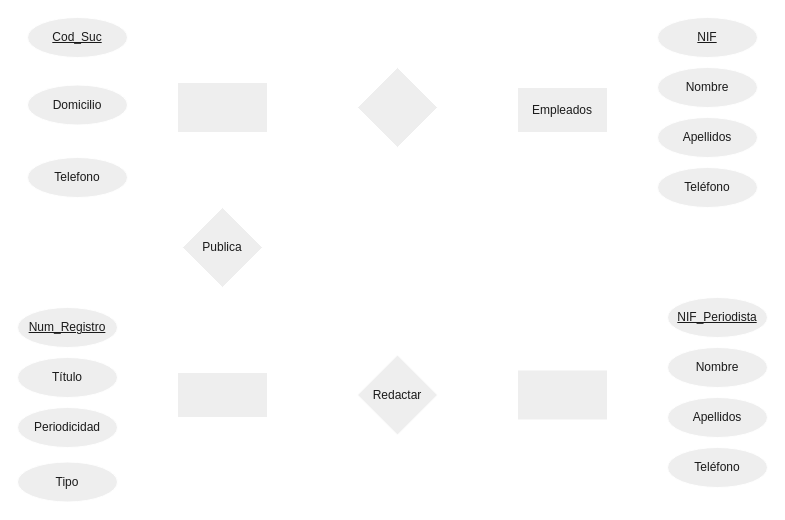
The diagram is 785 pixels wide and 520 high, and some of its shapes have lost their labels. The shapes that lost their labels are listed below. From the top down, each one's centre as x and y in pixels, then its label:
[222,107]: Sucursal
[397,107]: Tiene
[222,395]: Revistas
[562,394]: Periodistas
